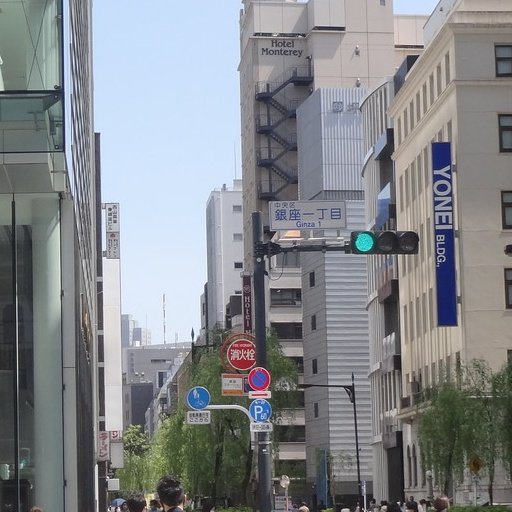Traffic_Signal_Blue: (345, 223, 418, 262)
